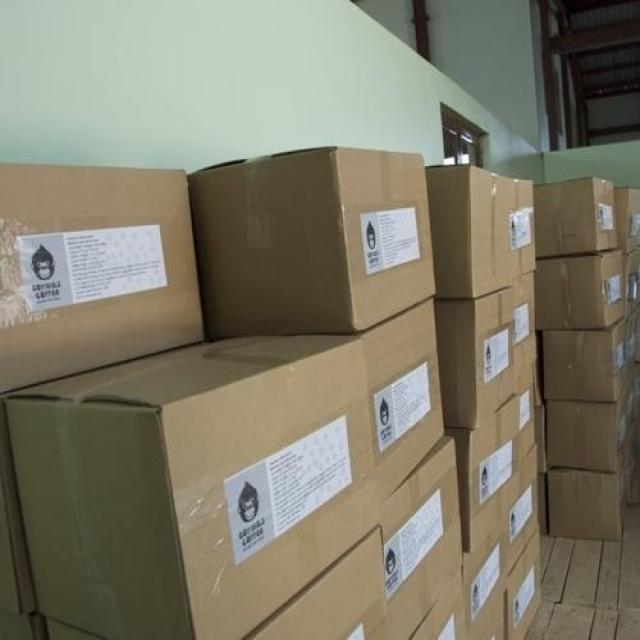box: (3, 332, 381, 640), (186, 146, 436, 338), (0, 162, 205, 395), (360, 295, 444, 505), (380, 433, 465, 639), (243, 523, 388, 640), (444, 388, 538, 563), (424, 166, 517, 298), (433, 287, 513, 430), (548, 425, 635, 540), (545, 371, 636, 473), (0, 394, 38, 613), (541, 314, 636, 401), (535, 246, 625, 329), (534, 176, 620, 259), (465, 519, 508, 639), (408, 567, 470, 640), (500, 474, 539, 580), (507, 527, 543, 639), (513, 271, 536, 394), (511, 179, 536, 277), (470, 589, 507, 640), (614, 188, 640, 255), (1, 610, 49, 640), (621, 249, 640, 319), (535, 401, 547, 475), (536, 471, 548, 530), (635, 308, 640, 426)
